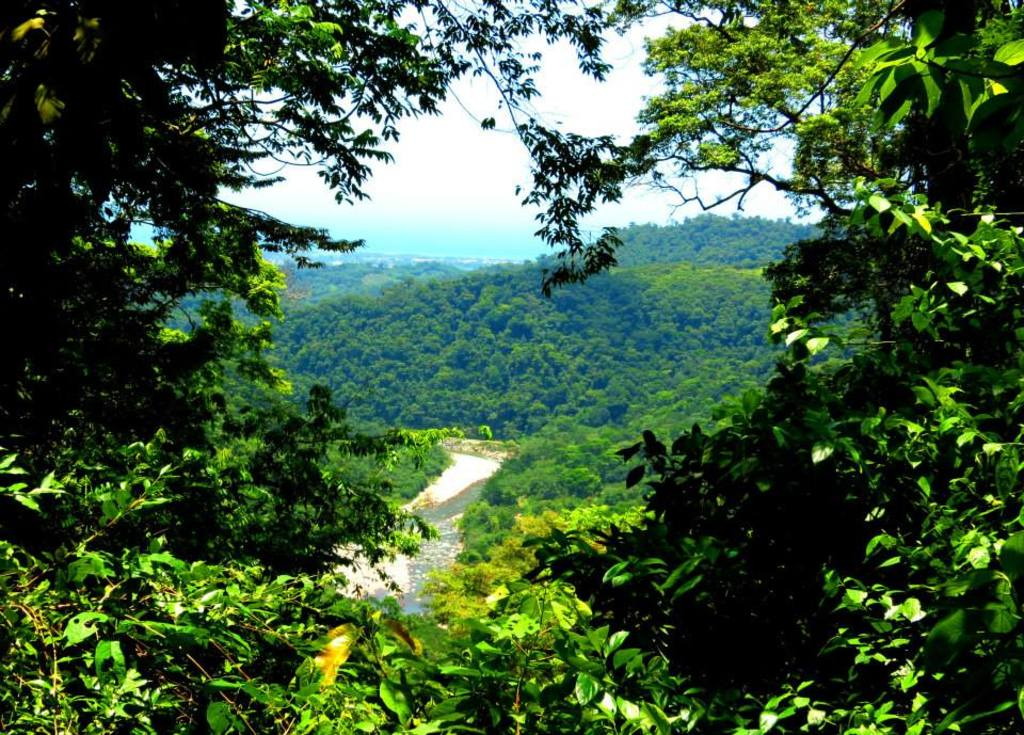Tree: (0, 0, 450, 733), (442, 0, 775, 733), (775, 0, 1022, 733)
